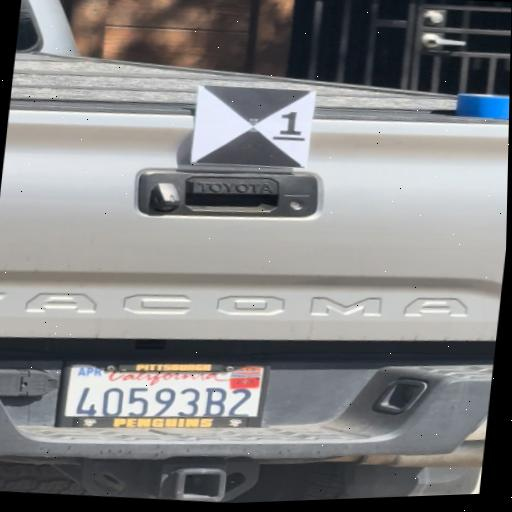target1: (191, 81, 314, 172)
